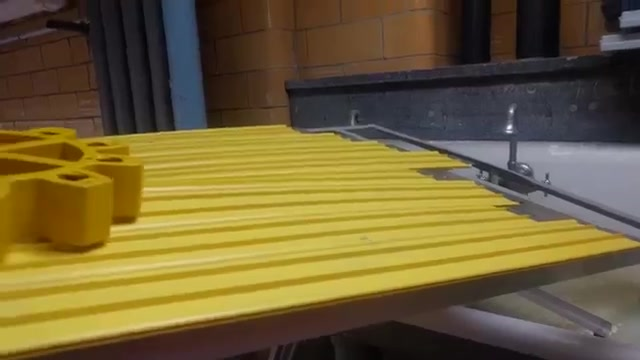gear: (1, 106, 145, 280)
